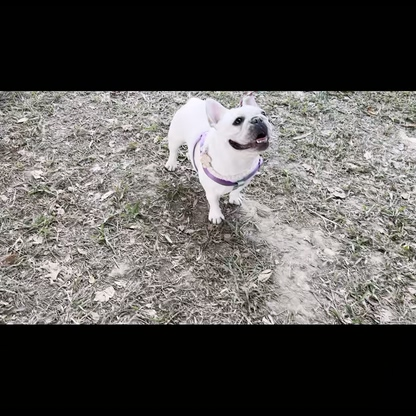bulldog: (162, 94, 276, 230)
